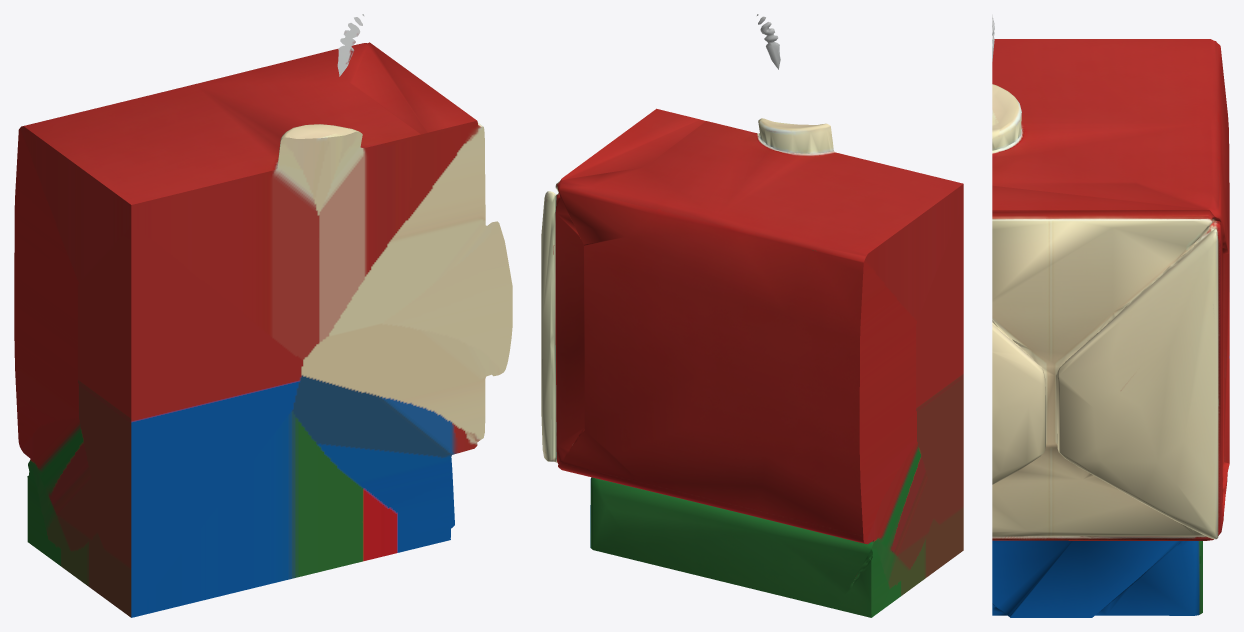
The model's file is 16-topper-back-right.fbx.
3 renders of one model, left to right at view 1: azimuth 30°, elevation 25°; view 2: azimuth 150°, elevation 25°; view 3: azimuth 270°, elevation 25°, orthographic. The views are drawn at different scales.
Visible parts, largest first — view 1: topper-back-right; view 2: topper-back-right; view 3: topper-back-right.
Boxes of the visible parts, bbox=[...] form: topper-back-right: bbox=[14, 14, 512, 617]; topper-back-right: bbox=[541, 14, 963, 617]; topper-back-right: bbox=[992, 15, 1229, 617].
Bounding box in the file's own units: 6316 × 8645 × 3351.
Materials: 1 (1 with a texture image).
